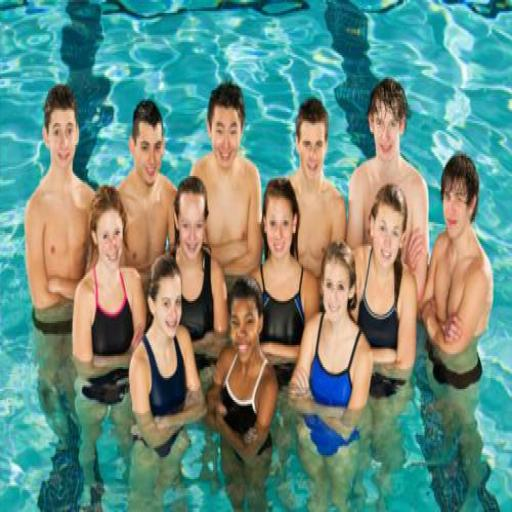swimming: (418, 150, 496, 508), (68, 184, 148, 510), (286, 239, 374, 510), (347, 182, 419, 496), (126, 252, 208, 508), (345, 76, 430, 306), (204, 275, 280, 510), (188, 79, 264, 283), (246, 176, 320, 378), (278, 96, 348, 282), (113, 98, 179, 286), (163, 174, 230, 354)
